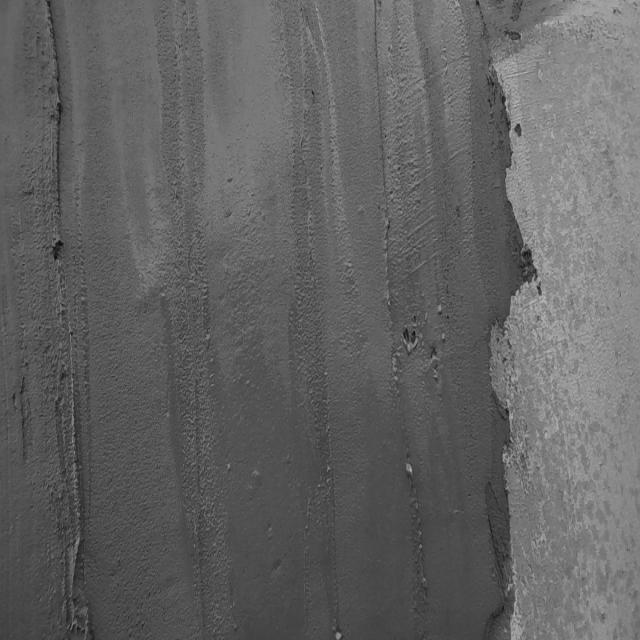trowels marks: (44, 7, 92, 640), (374, 12, 398, 335), (188, 361, 211, 639), (407, 450, 433, 606)
